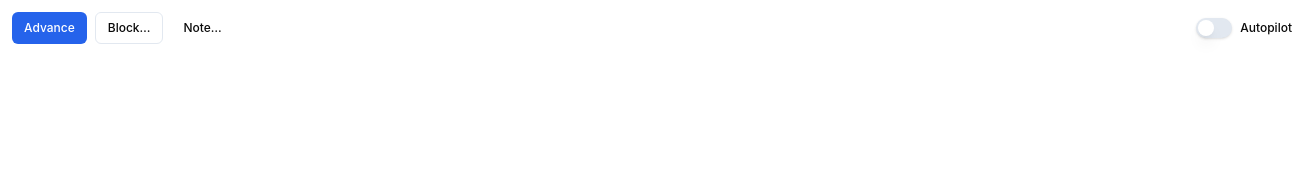
Test: TicketActions › shows exit code and output
Step 1. Click the button "Advance" → [49, 28], box x1=12 y1=12 x2=87 y2=44
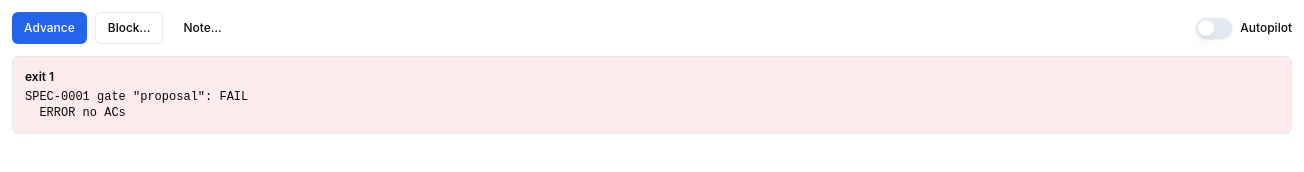
Expected: the text "exit 1" is shown, x1=25 y1=69 x2=54 y2=84
Expected: the text "SPEC-0001 gate \"proposal\": FAIL ERROR no ACs" is shown, x1=25 y1=90 x2=248 y2=120
